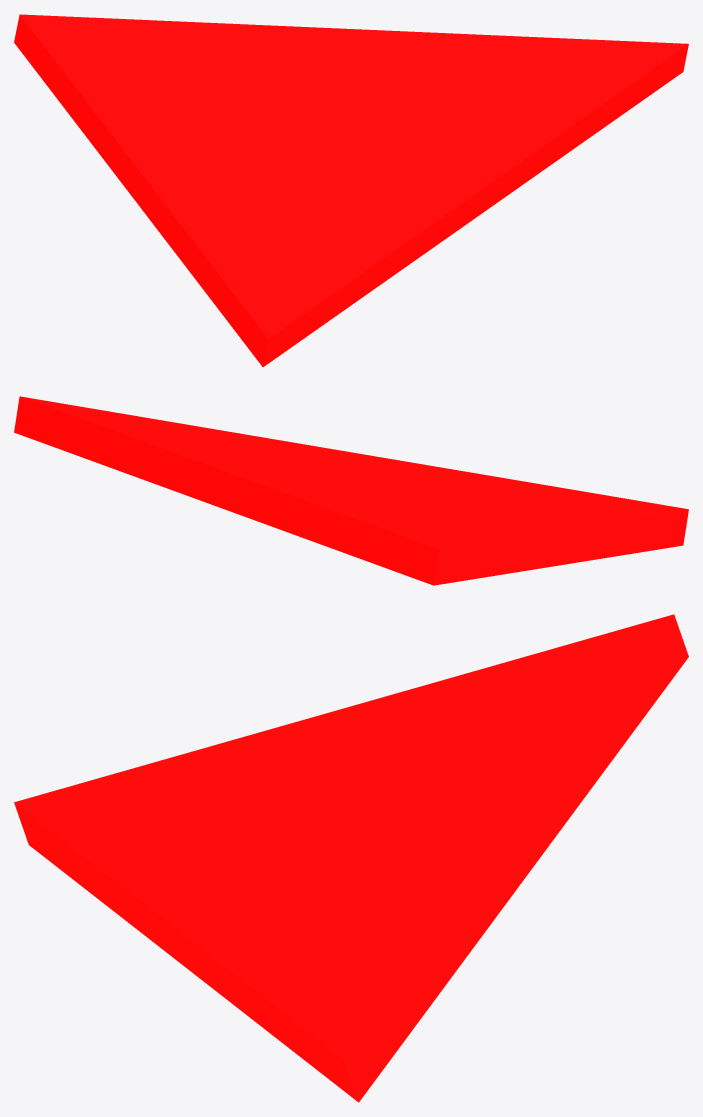
The picture shows the model from 3 angles, top to bottom: view 1: azimuth 30°, elevation 25°; view 2: azimuth 150°, elevation 25°; view 3: azimuth 270°, elevation 25°; orthographic projection. The views are drawn at different scales.
Parts seen in each view (by area): view 1: BezierCurve001; view 2: BezierCurve001; view 3: BezierCurve001.
Part boxes in pixels (x1=…): BezierCurve001: x1=14, y1=14, x2=688, y2=366; BezierCurve001: x1=14, y1=396, x2=688, y2=585; BezierCurve001: x1=14, y1=614, x2=688, y2=1102.
Size of the model in its own units: 1.35 by 0.4132 by 1.09.
